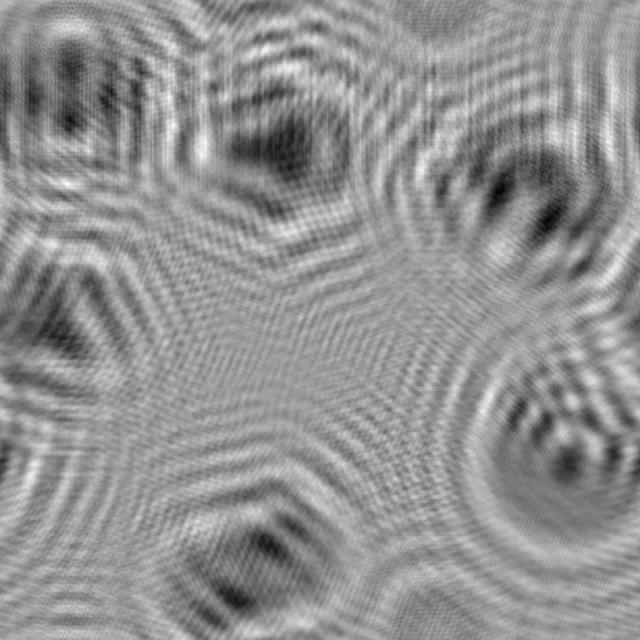A: (137, 0, 421, 293)
H: (0, 0, 190, 224)
M: (383, 44, 640, 320)
U: (440, 291, 640, 588)
V: (0, 207, 193, 445)
Z: (105, 425, 388, 640)
